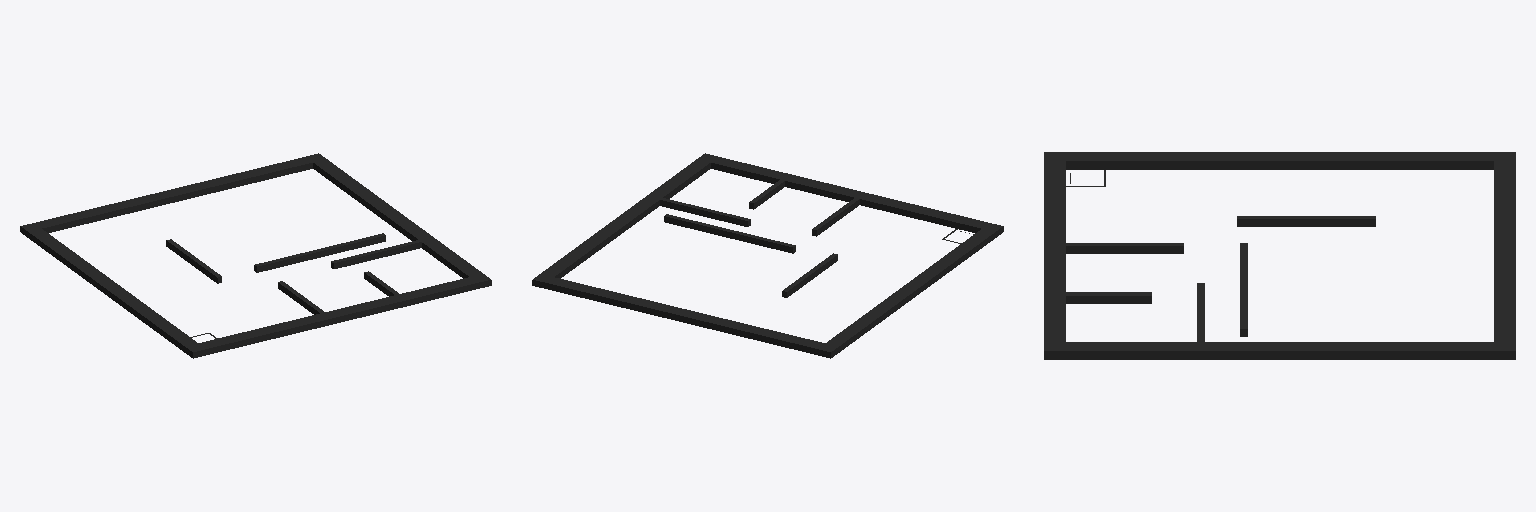
The robot description file, URDF, robot "Room7":
<robot name="Room7">
    <link name="_name">
        <visual> 
            <origin rpy="0.0 0.0 0.0" xyz="-0.5134551001190176 -0.4807624736394861 -0.009999999999999993" />
                <geometry>
                    <mesh filename="Room7/Room7.obj" scale="1 1 0.1" />
                </geometry>

            <material name="black">
                <color rgba="0.2 0.2 0.2 0.95" />
            </material>
        </visual>

       <collision concave="yes" name="collision_0">
            <origin rpy="0.0 0.0 0.0" xyz="-0.5134551001190176 -0.4807624736394861 -0.009999999999999993" />
            <geometry>
                <mesh filename="Room7/Room7_vhacd.obj" scale="1 1 0.1" />
            </geometry>
        </collision>

        <inertial> 
            <mass value="0" />
            <inertia ixx="0" ixy="0" ixz="0" iyy="0" iyz="0" izz="0" />
        </inertial> 
    </link>
</robot>

--- Facts derived from the render (not from the file) ---
3 views of the same robot in one strip: view 1: azimuth 30°, elevation 25°; view 2: azimuth 150°, elevation 25°; view 3: azimuth 270°, elevation 25° (orthographic).
Robot: Room7 — 1 links, 0 joints (none); root link _name; default pose: every joint at zero.
Links seen in each view (by area): view 1: _name; view 2: _name; view 3: _name.
Boxes of the visible links, box(x1,y1,x2,y2) form: _name: box(20, 153, 491, 358); _name: box(532, 153, 1003, 358); _name: box(1044, 152, 1515, 359).
Bounding box of the posed robot: 1 × 1 × 0.02 m (x, y, z).
1 mesh visuals loaded from 1 distinct referenced files (1 OBJ).